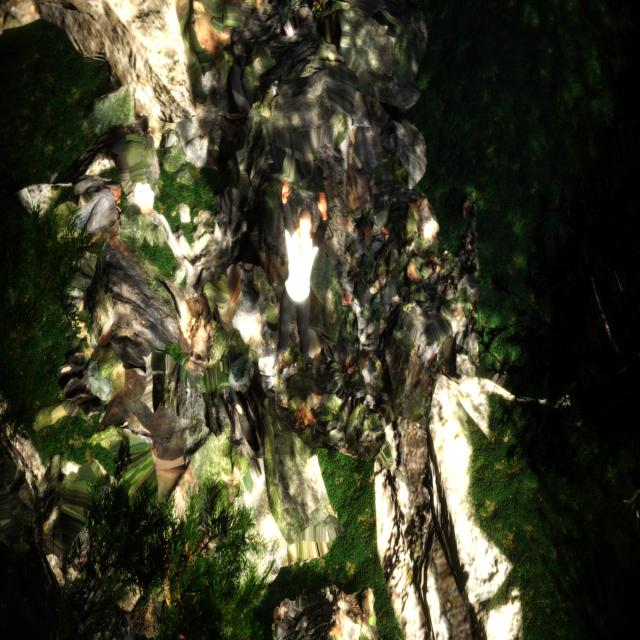Human: (275, 181, 329, 400)
